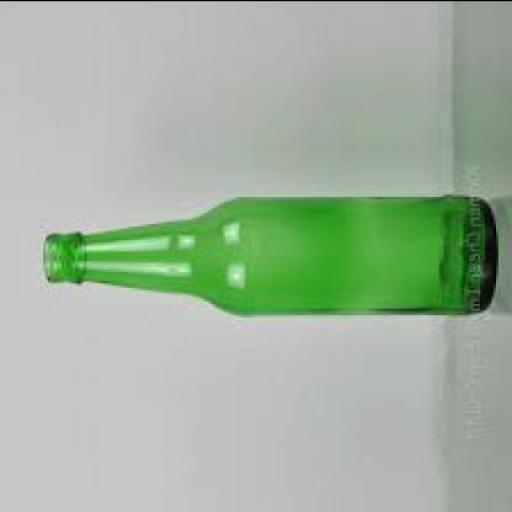glass: (41, 194, 496, 312)
